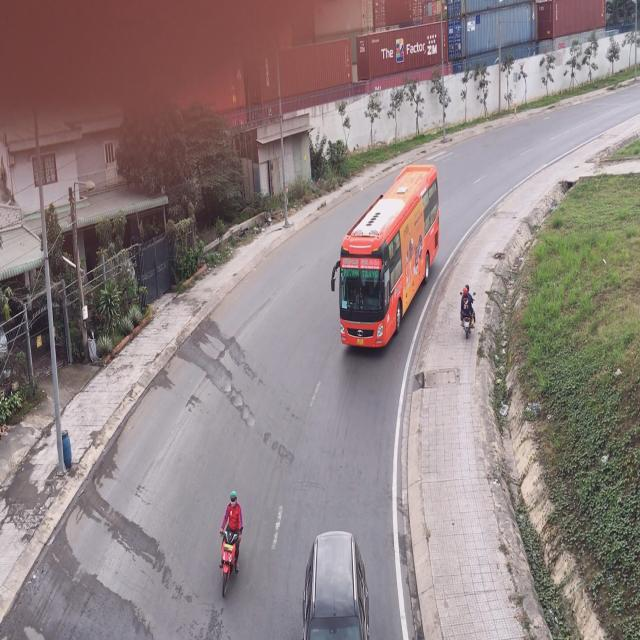bus: (333, 168, 439, 353)
car: (305, 528, 370, 639)
motorbike: (218, 494, 244, 601), (459, 284, 475, 342)
